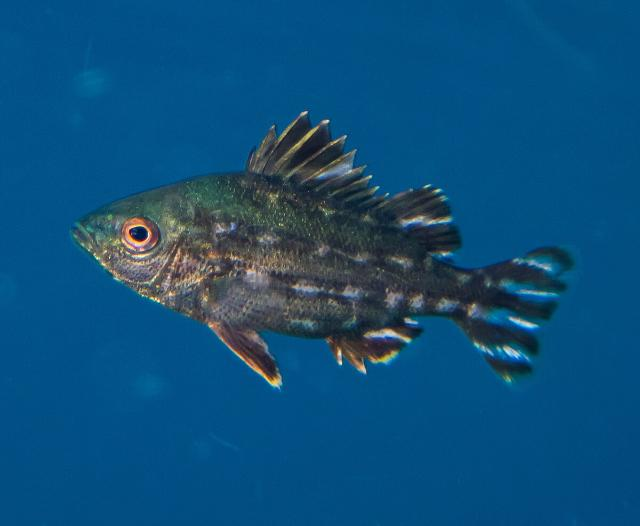Mulut: (59, 197, 108, 273)
Sirip Anal: (330, 311, 430, 379)
Sirip Dada: (199, 263, 299, 341)
Sirip Ekor: (465, 239, 573, 389)
Sirip Perut: (196, 311, 290, 400)
Sirip Punggung: (241, 100, 465, 262)
